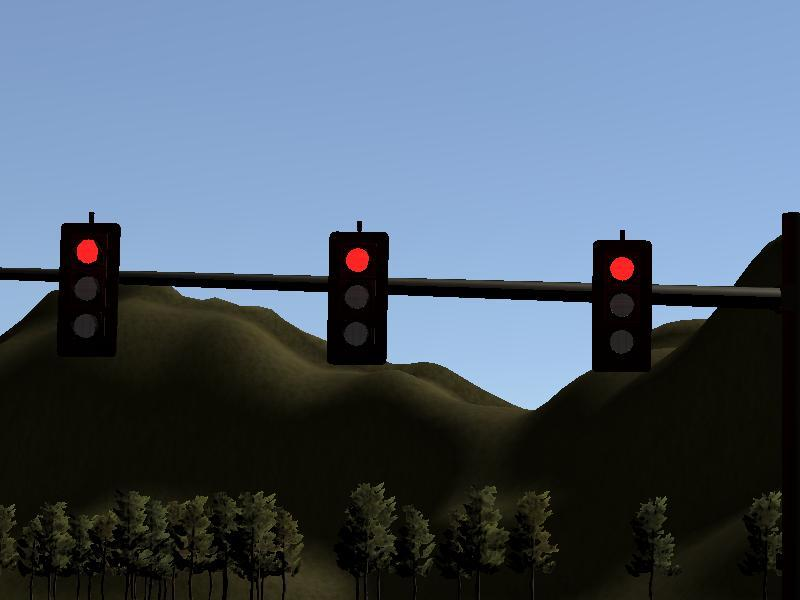Red: (58, 223, 120, 356), (590, 240, 652, 373), (326, 231, 388, 364)
